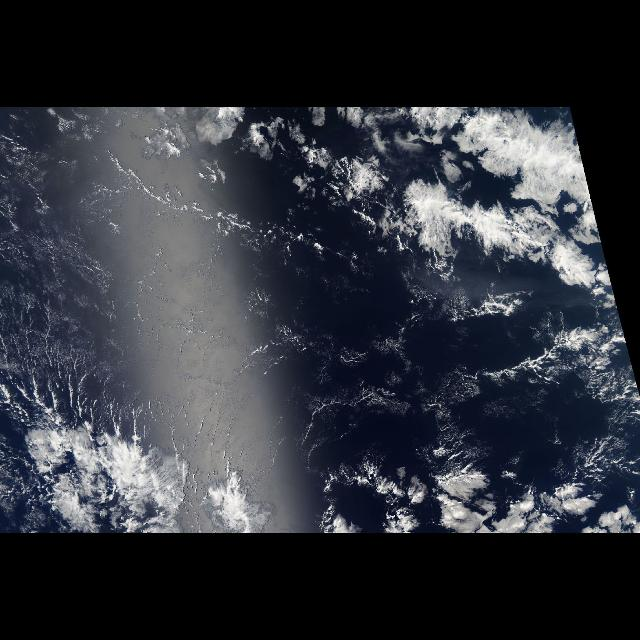Fish: (394, 174, 616, 300)
Flower: (424, 457, 640, 533)
Sugar: (17, 133, 264, 429)
